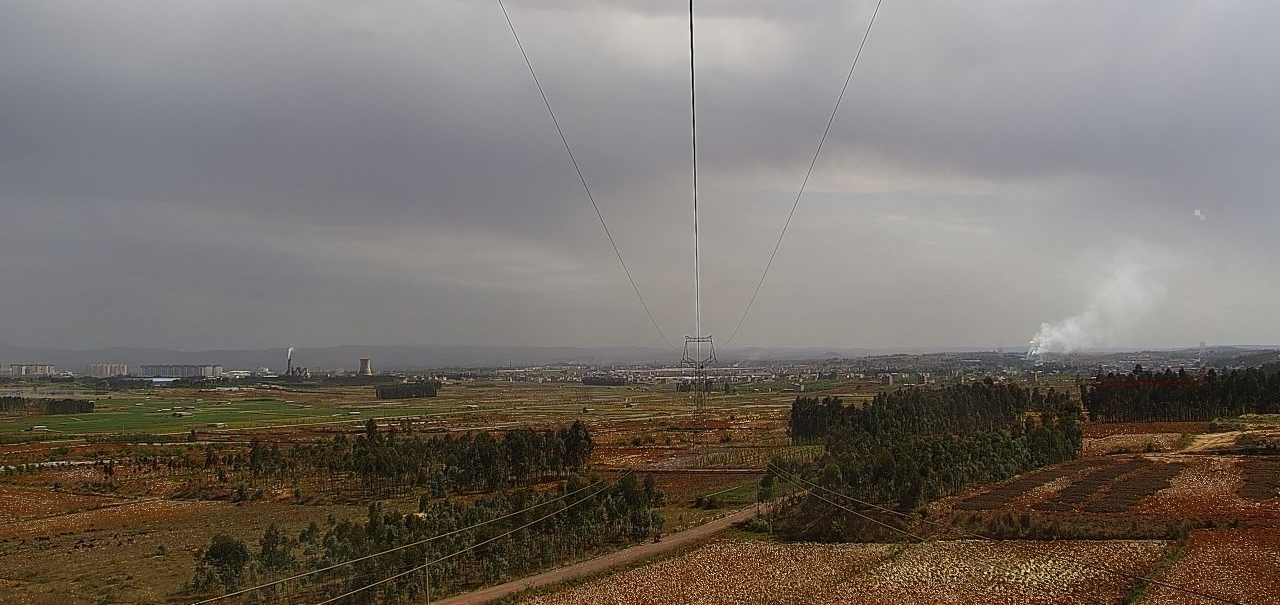烟雾: (1025, 234, 1183, 360)
